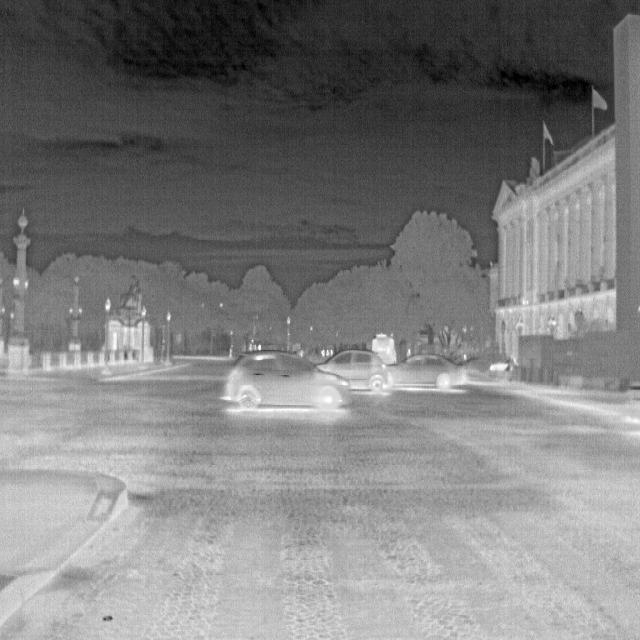Vehicle: (221, 348, 350, 413), (312, 348, 389, 393), (384, 352, 467, 392)
